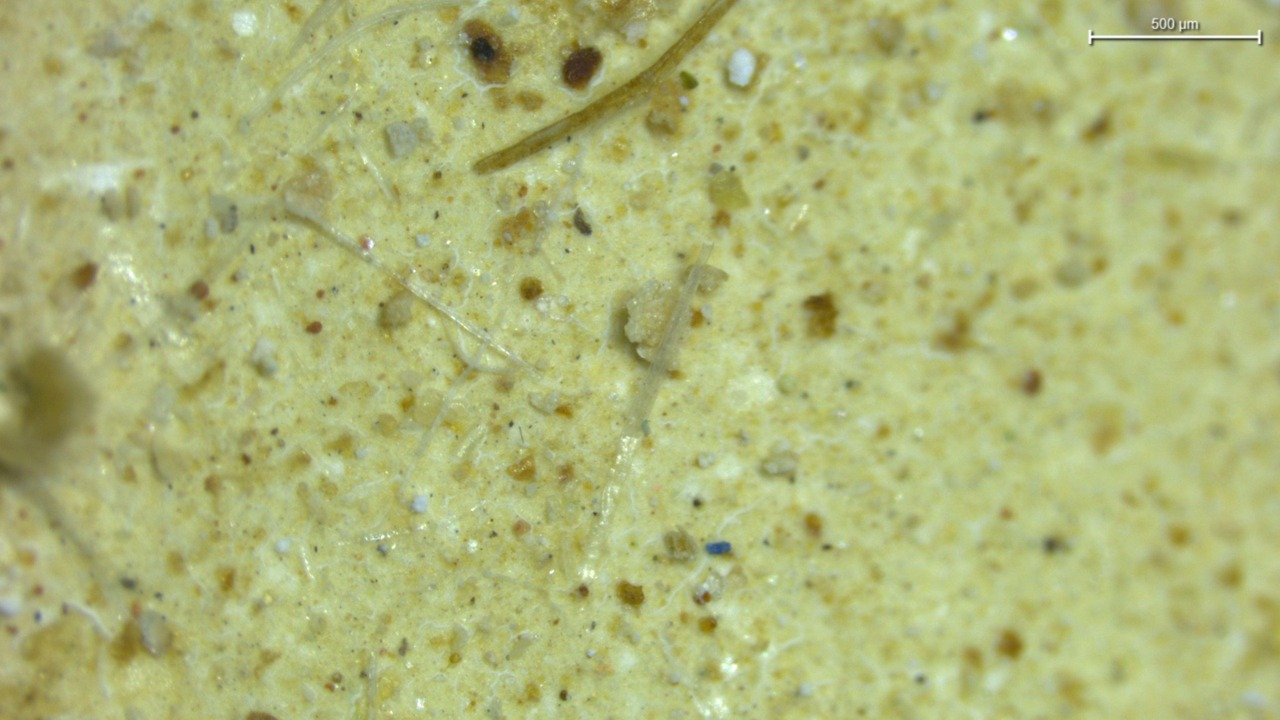microplastic_fragment: (624, 280, 692, 371), (387, 118, 435, 153), (734, 52, 757, 88)
